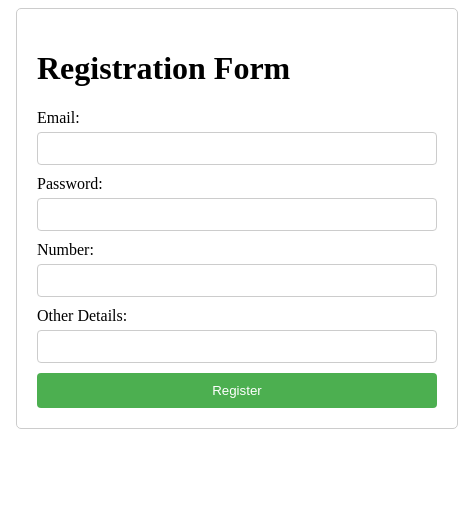
Test: RegistrationForm › should handle form submission successfully
Type "test@example.com" into the field labelled "Email:" at (237, 148), box [37,132,437,165]
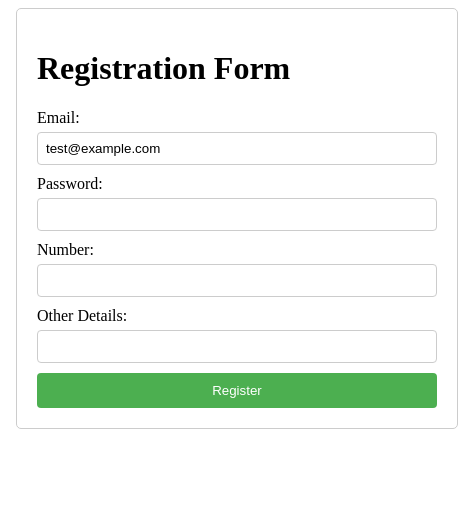
Type "password123" into the password field labelled "Password:" at (237, 214), box [37,198,437,231]
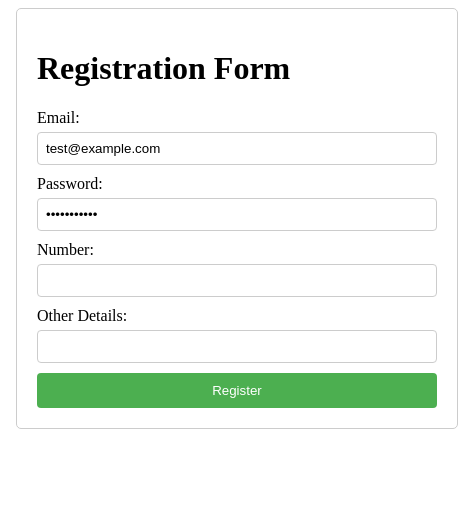
Type "1234567890" into the field labelled "Number:" at (237, 280), box [37,264,437,297]
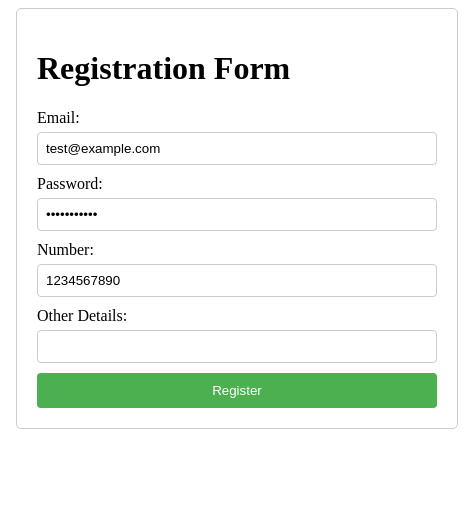
Type "Some details" into the field labelled "Other Details:" at (237, 346), box [37,330,437,363]
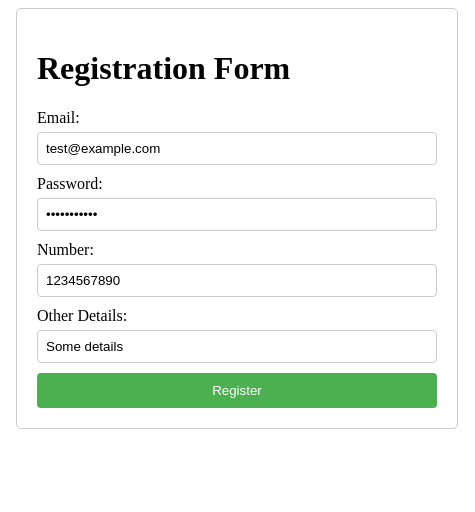
Click the button "Register" at (237, 390), box [37,373,437,408]
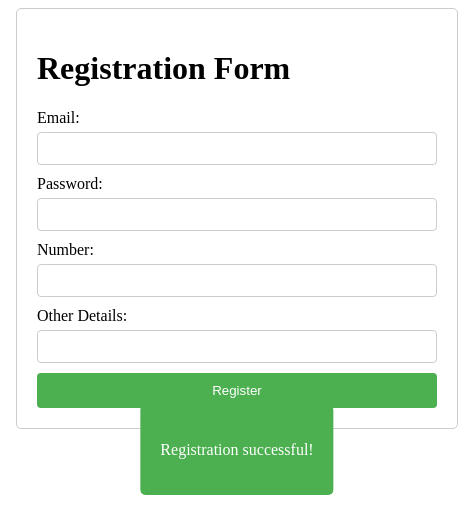
Now the text "Registration successful!" is shown, box [160,441,314,459]
Now the field labelled "Email:" is empty, box [37,132,437,165]
Now the password field labelled "Password:" is empty, box [37,198,437,231]
